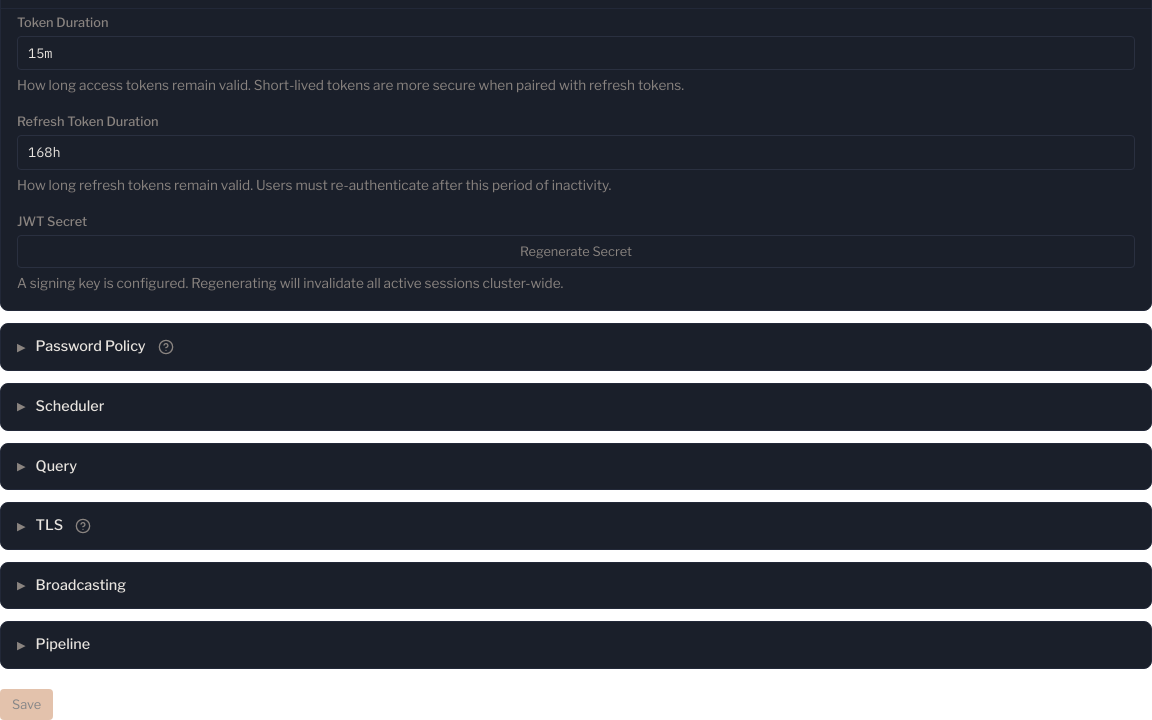
Test: ServiceSettings › TLS section shows certificate dropdown
The width and height of the screenshot is (1152, 720).
(page scrolled)
Click the text "TLS".
click(49, 526)  # box [36, 515, 63, 537]
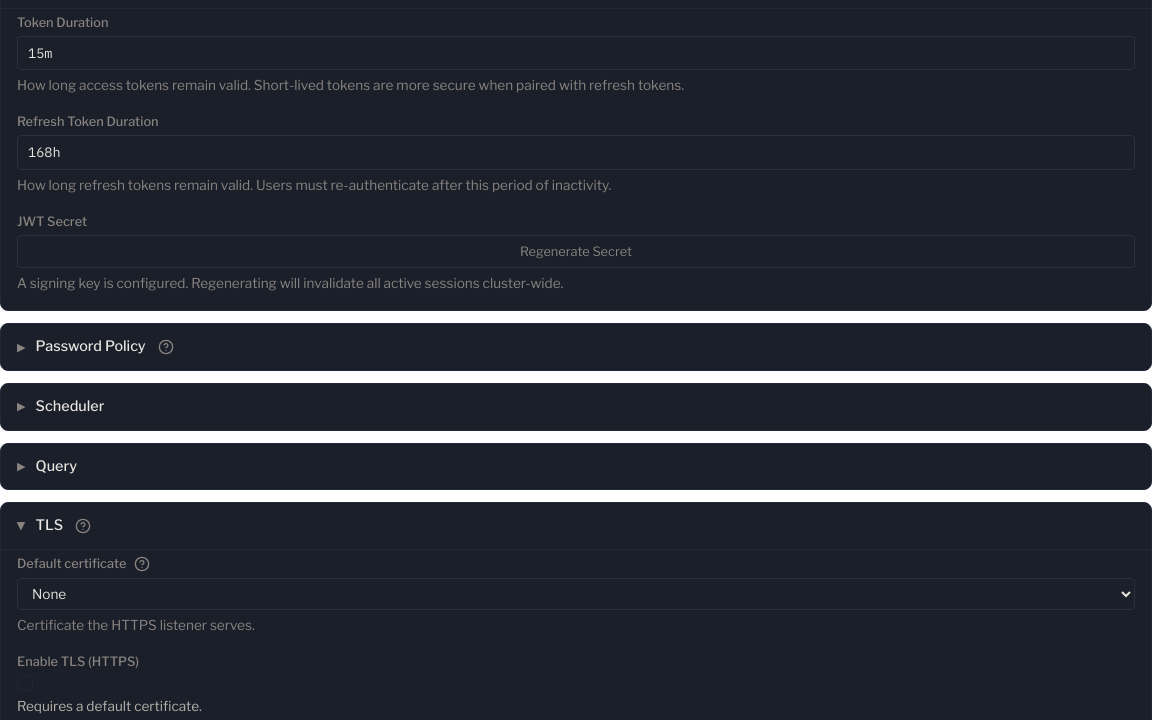
Expected: the text "Default certificate" is shown, [17, 554, 126, 573]
